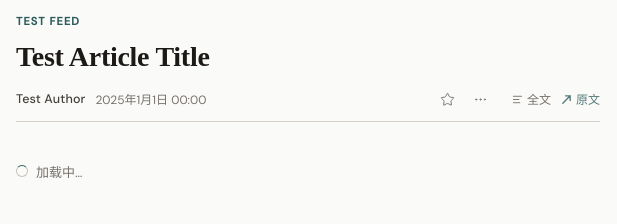
Scenario: copy action › is disabled while the body is still loading
Click the button named "更多操作" at (480, 99), box x1=469 y1=88 x2=492 y2=111
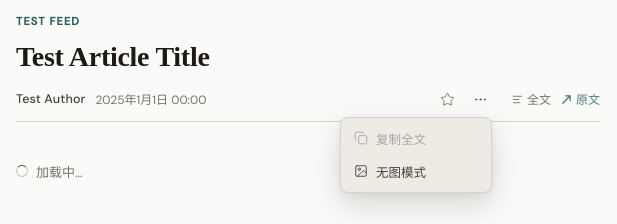
Check: the menu item "复制全文" is disabled, box x1=345 y1=122 x2=487 y2=155
